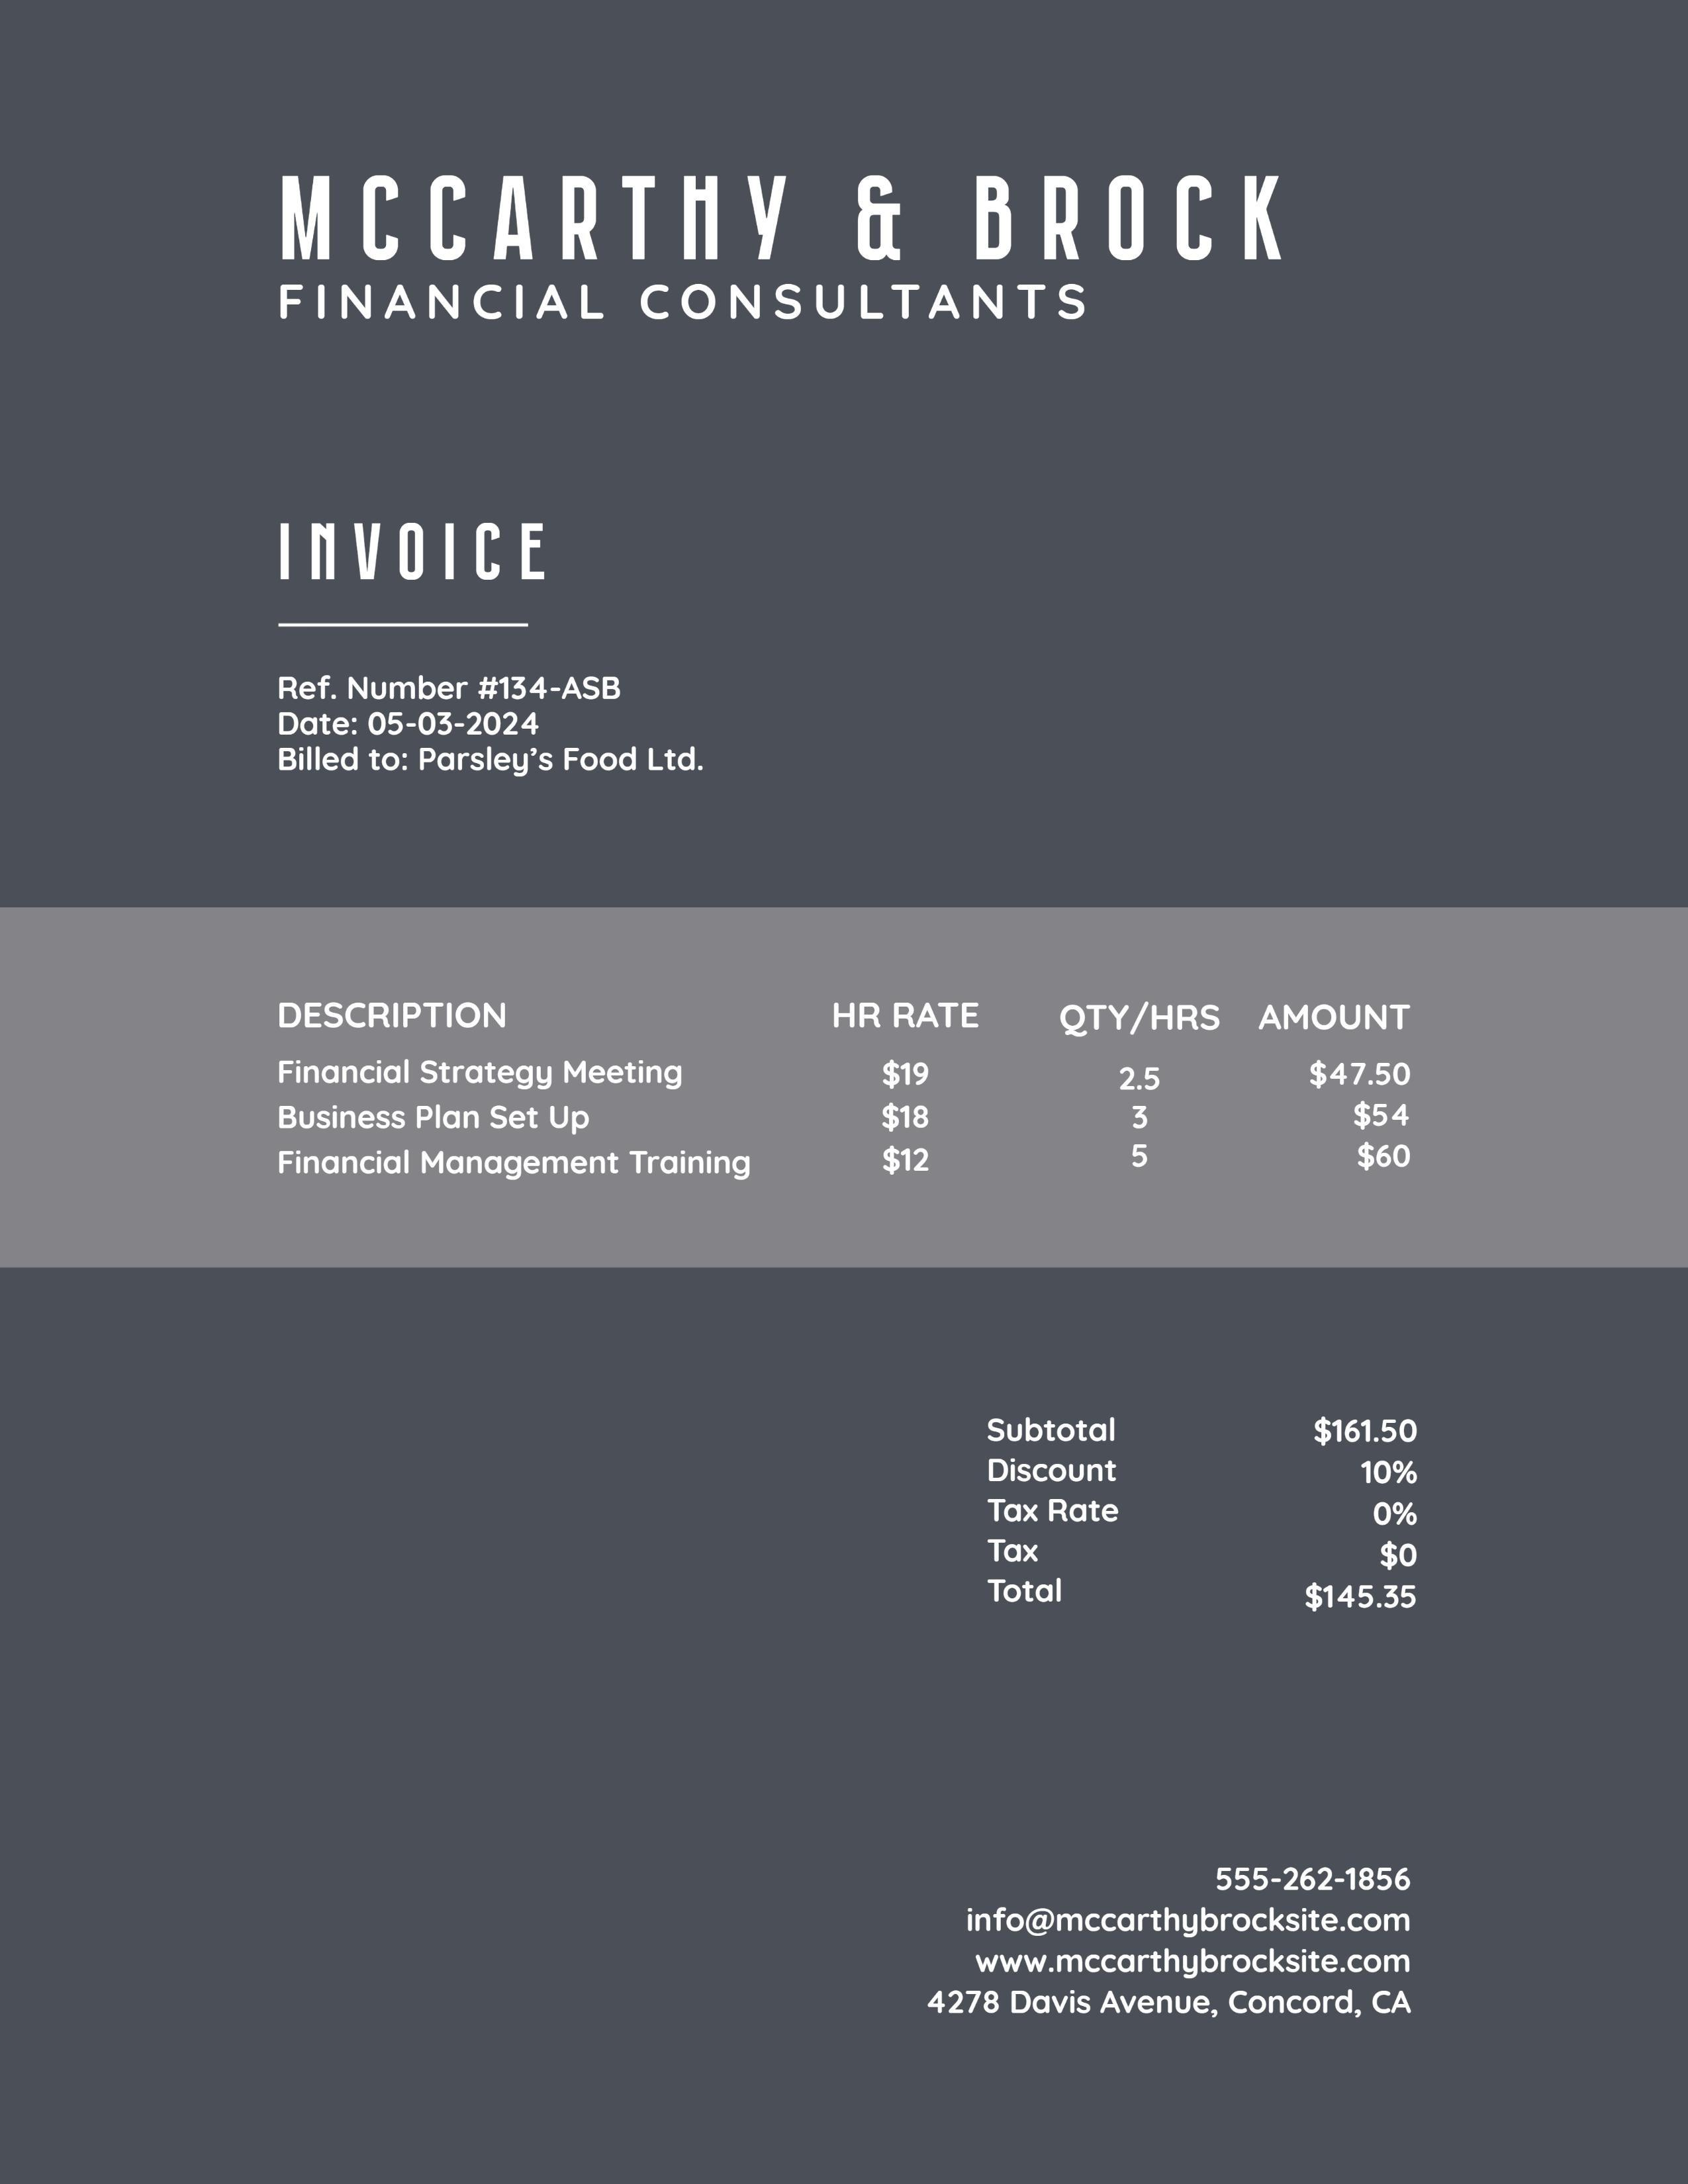ROI: (264, 977, 1433, 1204), (264, 516, 707, 805), (910, 1849, 1440, 2058), (977, 1406, 1429, 1618)
